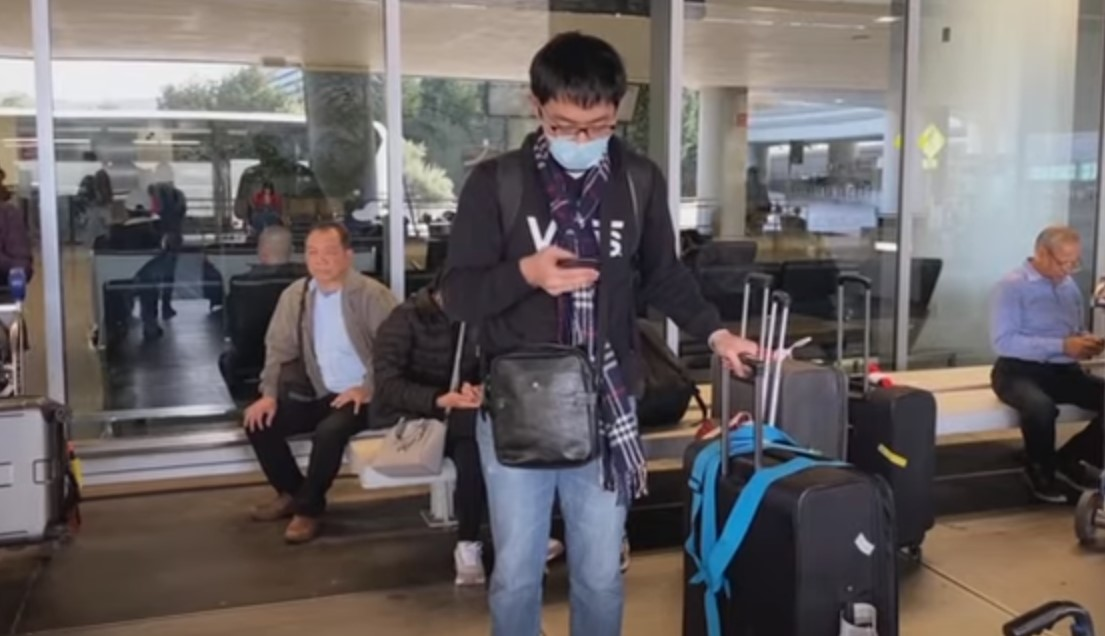face_no_mask: (308, 223, 354, 282)
face_with_mask: (531, 30, 629, 173)
